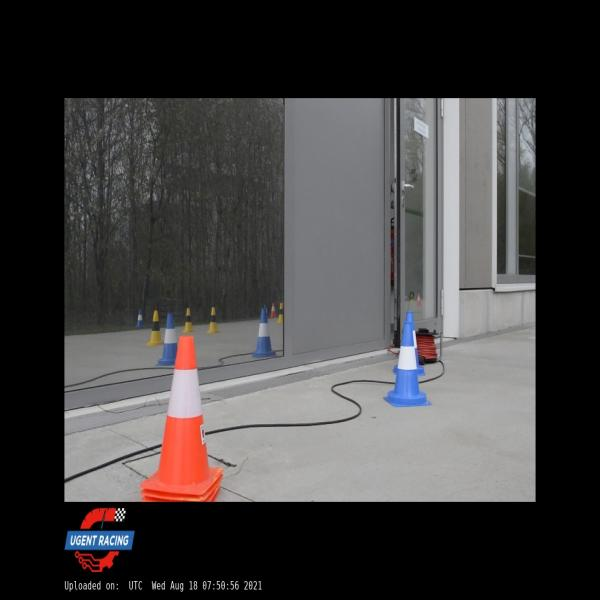blue_cone: (382, 323, 432, 406), (392, 312, 424, 374), (252, 308, 276, 358), (156, 313, 178, 366), (136, 308, 144, 328), (264, 304, 268, 318)
orange_cone: (139, 336, 223, 501), (270, 302, 275, 318), (416, 294, 421, 306)
yellow_cone: (147, 310, 164, 346), (207, 307, 219, 333), (182, 308, 194, 332), (277, 303, 283, 323), (409, 293, 414, 304)
